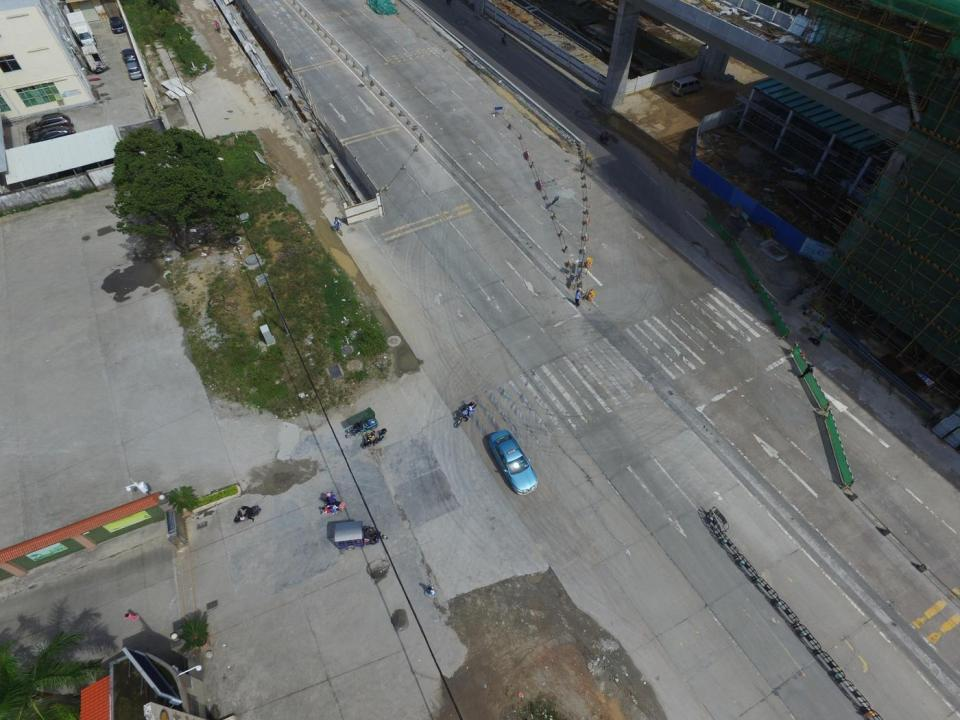car: (487, 432, 535, 497), (27, 113, 71, 135), (30, 127, 72, 144), (109, 16, 126, 34), (127, 62, 143, 81), (121, 49, 136, 66)
truck: (66, 12, 95, 49), (79, 44, 103, 74)
van: (672, 75, 701, 97)
